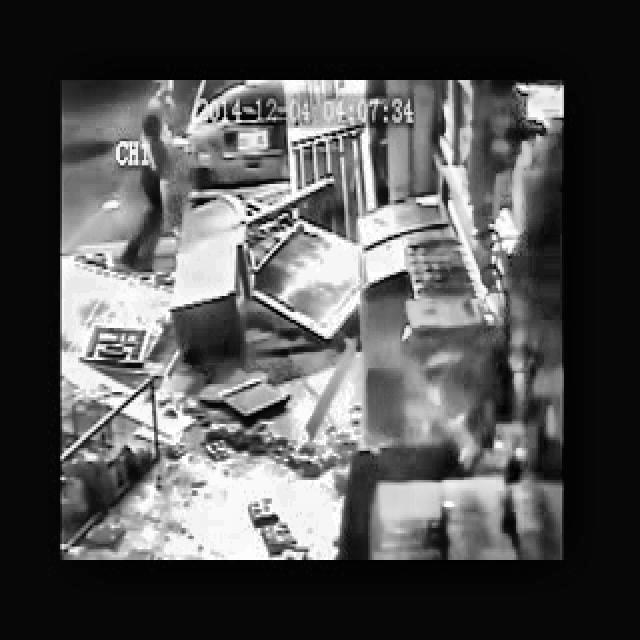burglary: (118, 80, 260, 370)
